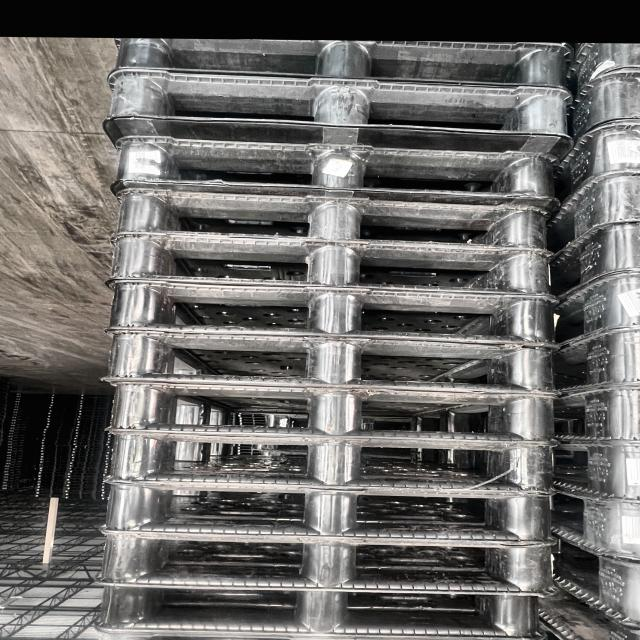igps: (105, 182, 563, 255), (94, 480, 566, 550), (93, 376, 569, 444), (90, 528, 564, 596), (95, 330, 574, 397), (94, 72, 578, 137), (107, 130, 564, 198), (98, 428, 568, 494), (103, 234, 572, 300), (100, 283, 569, 347), (101, 31, 581, 90), (89, 582, 551, 640), (545, 523, 640, 631), (542, 169, 640, 270), (547, 264, 640, 362), (544, 215, 640, 304), (550, 122, 640, 204), (548, 485, 640, 564), (535, 572, 640, 640), (550, 321, 640, 398), (563, 68, 640, 146), (550, 383, 640, 446), (546, 442, 640, 502), (562, 39, 640, 93), (64, 495, 97, 501), (64, 489, 97, 494), (79, 406, 109, 411), (66, 475, 99, 479), (68, 470, 101, 474), (64, 493, 96, 497), (66, 481, 98, 485), (67, 472, 99, 476), (68, 467, 100, 471), (73, 442, 104, 446), (79, 404, 110, 408), (75, 431, 105, 435), (75, 428, 105, 432), (34, 491, 64, 495), (36, 480, 66, 484), (35, 486, 64, 490), (2, 476, 21, 482), (64, 487, 98, 490), (0, 485, 20, 490), (1, 482, 21, 487), (1, 474, 21, 479), (2, 466, 22, 471), (65, 484, 98, 487), (71, 448, 104, 451), (66, 478, 98, 481), (69, 462, 101, 465), (71, 451, 103, 454), (73, 437, 105, 440), (2, 471, 21, 476), (69, 465, 100, 468), (71, 459, 102, 462), (73, 440, 104, 443), (76, 423, 107, 426), (76, 421, 107, 424), (77, 415, 108, 418), (80, 396, 111, 399), (74, 445, 104, 448), (75, 434, 105, 437), (80, 402, 110, 405), (81, 394, 111, 397), (34, 495, 64, 498), (37, 475, 67, 478), (38, 466, 68, 469), (35, 488, 64, 491), (40, 458, 69, 461), (40, 455, 69, 458), (37, 483, 65, 486), (38, 472, 66, 475), (40, 461, 68, 464), (1, 469, 22, 473), (3, 464, 23, 468), (1, 480, 20, 484), (4, 461, 23, 465), (5, 458, 24, 462), (6, 450, 25, 454), (6, 445, 24, 449), (7, 434, 25, 438), (10, 421, 28, 425), (10, 418, 28, 422), (7, 448, 24, 452), (70, 454, 102, 456), (75, 426, 107, 428), (76, 418, 108, 420), (79, 400, 111, 402), (71, 457, 102, 459), (78, 413, 109, 415), (78, 410, 109, 412), (38, 470, 68, 472), (38, 464, 68, 466), (5, 456, 24, 459), (38, 478, 66, 480), (7, 440, 25, 443), (8, 429, 26, 432), (9, 424, 27, 427), (11, 416, 29, 419), (7, 443, 24, 446), (8, 432, 25, 435), (9, 427, 26, 430), (5, 454, 24, 456), (7, 438, 26, 440)
